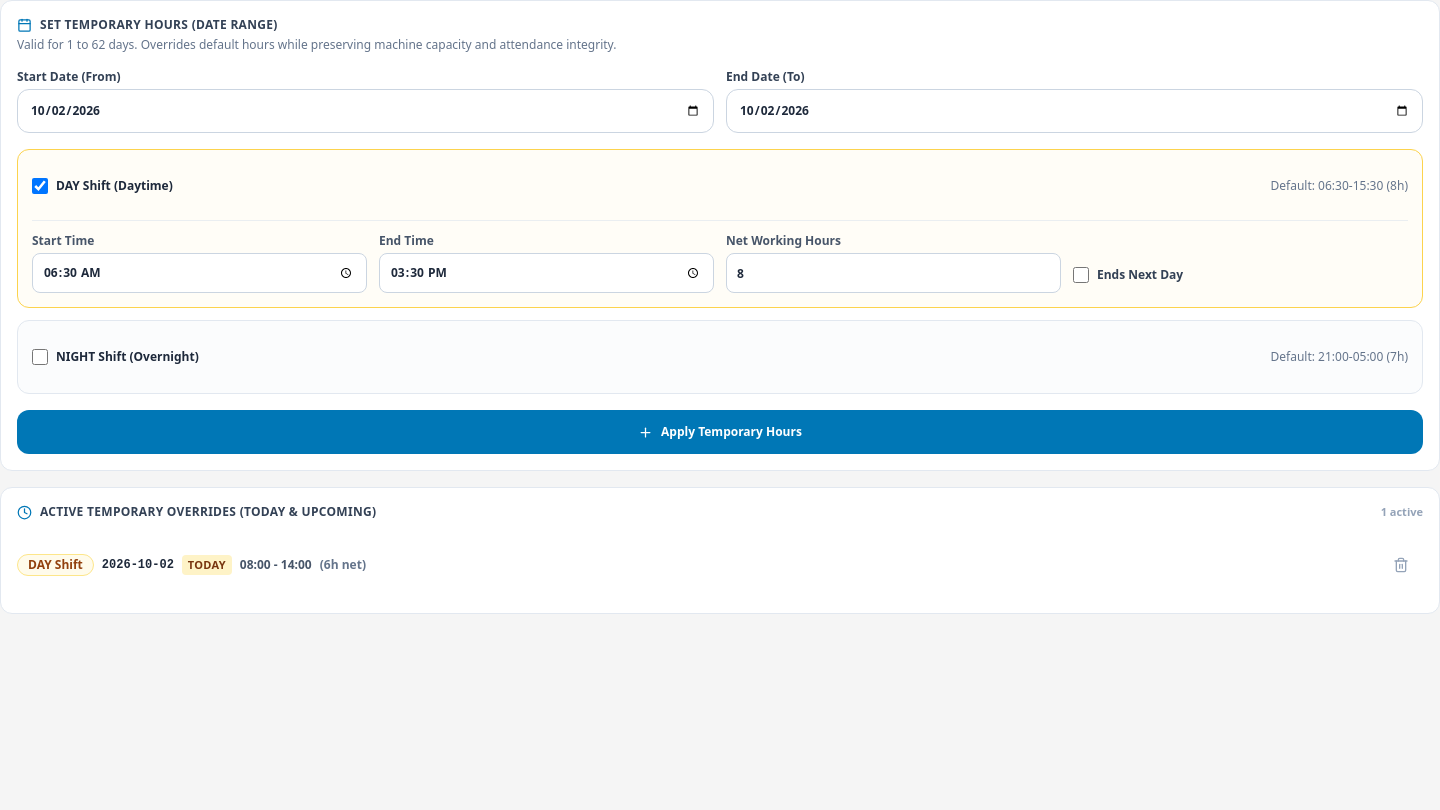
Test: PREVIEW_STALE — deteksi via err.code (DELETE) › refresh berhasil: alasan dipertahankan, konfirmasi ulang wajib, retry memakai token baru
Click the button named "Delete temporary hours for DAY on 2026-10-02" at (1401, 564), box left=1379, top=542, right=1423, bottom=586
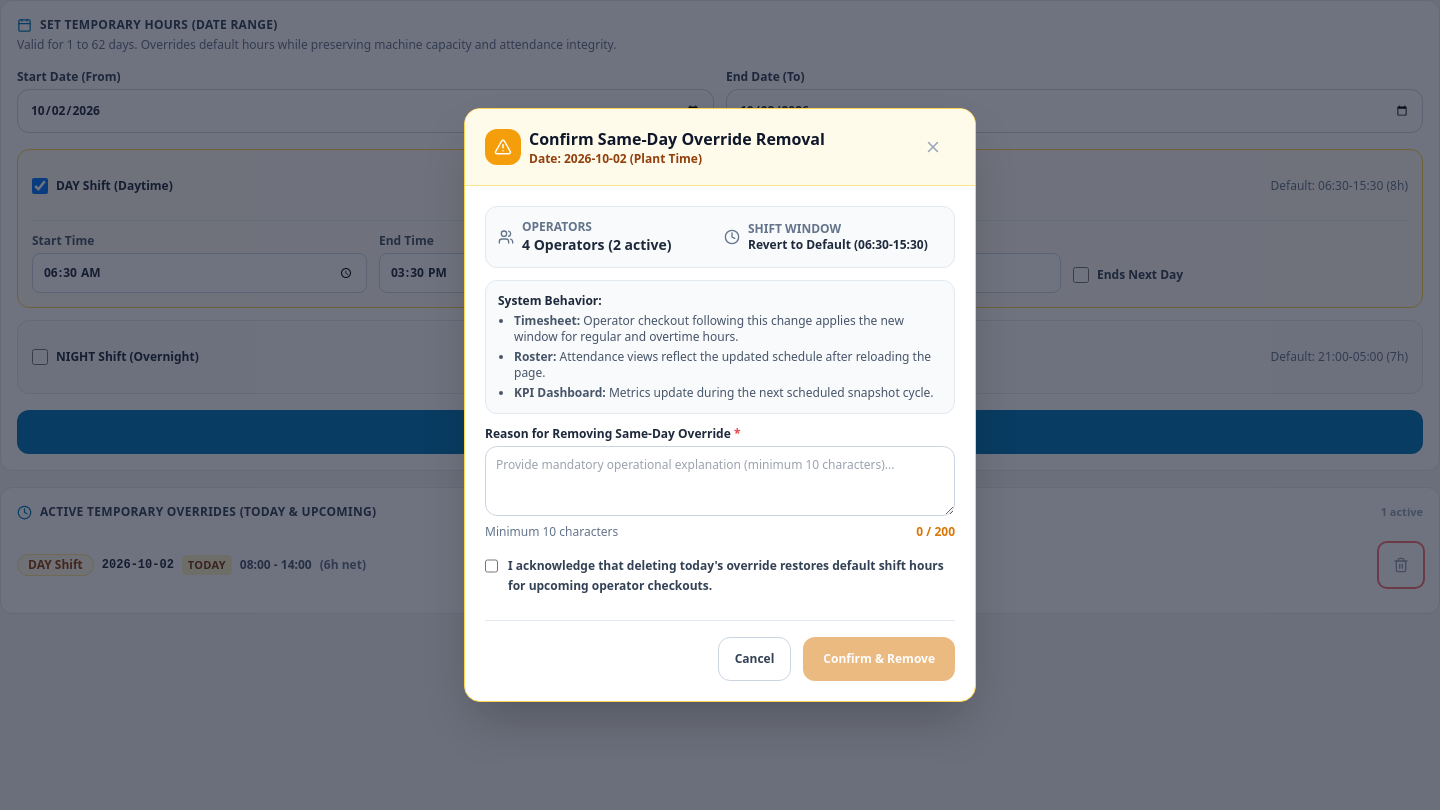
Expected: the heading "Confirm Same-Day Override Removal" is shown, left=529, top=127, right=825, bottom=151
Type "Emergency adjustment due to facility grid maintenance" into the text box labelled "Reason for Removing Same-Day Override *" at (720, 481), box left=485, top=446, right=955, bottom=516
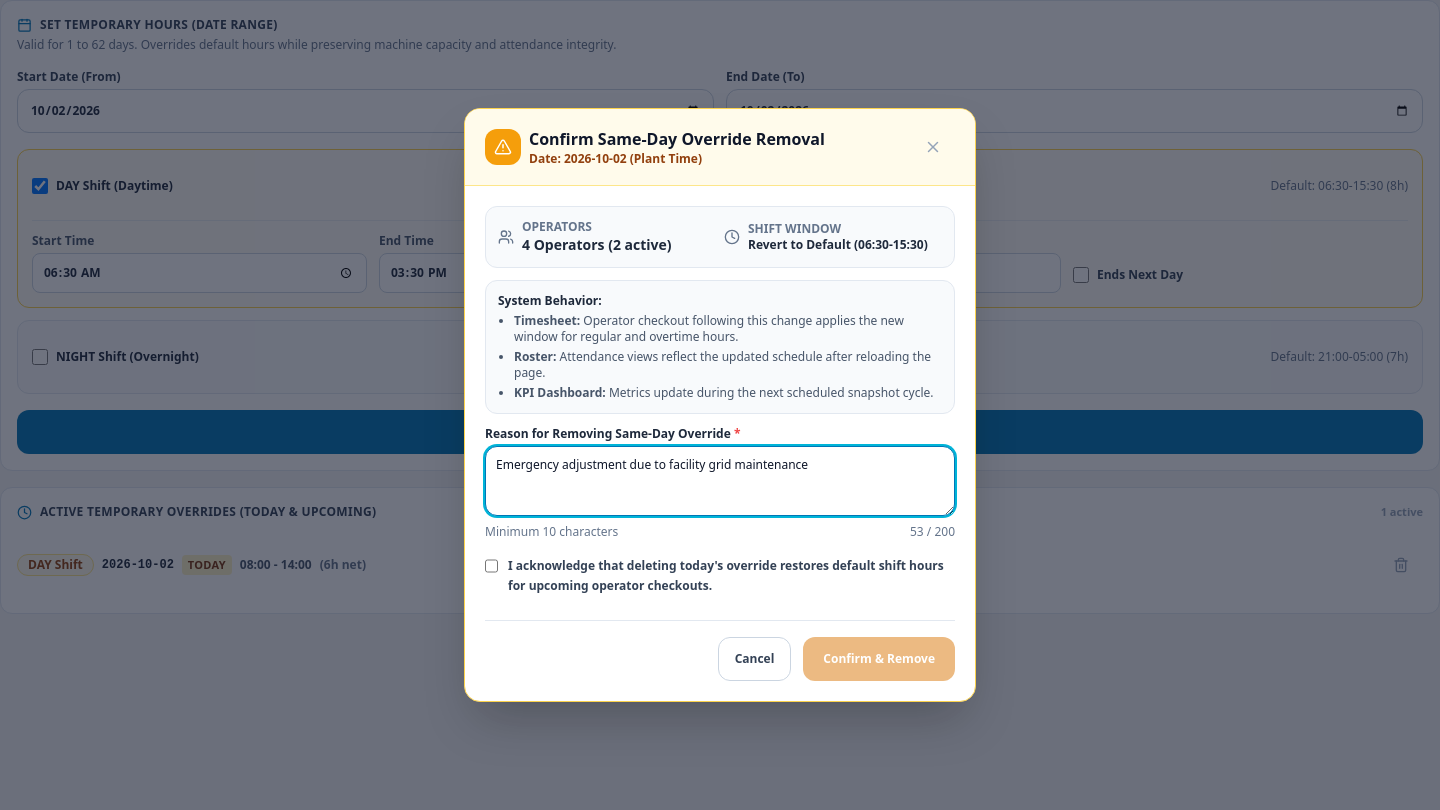
Click the checkbox labelled "I acknowledge that deleting today's override" at (492, 566), box left=485, top=558, right=498, bottom=574
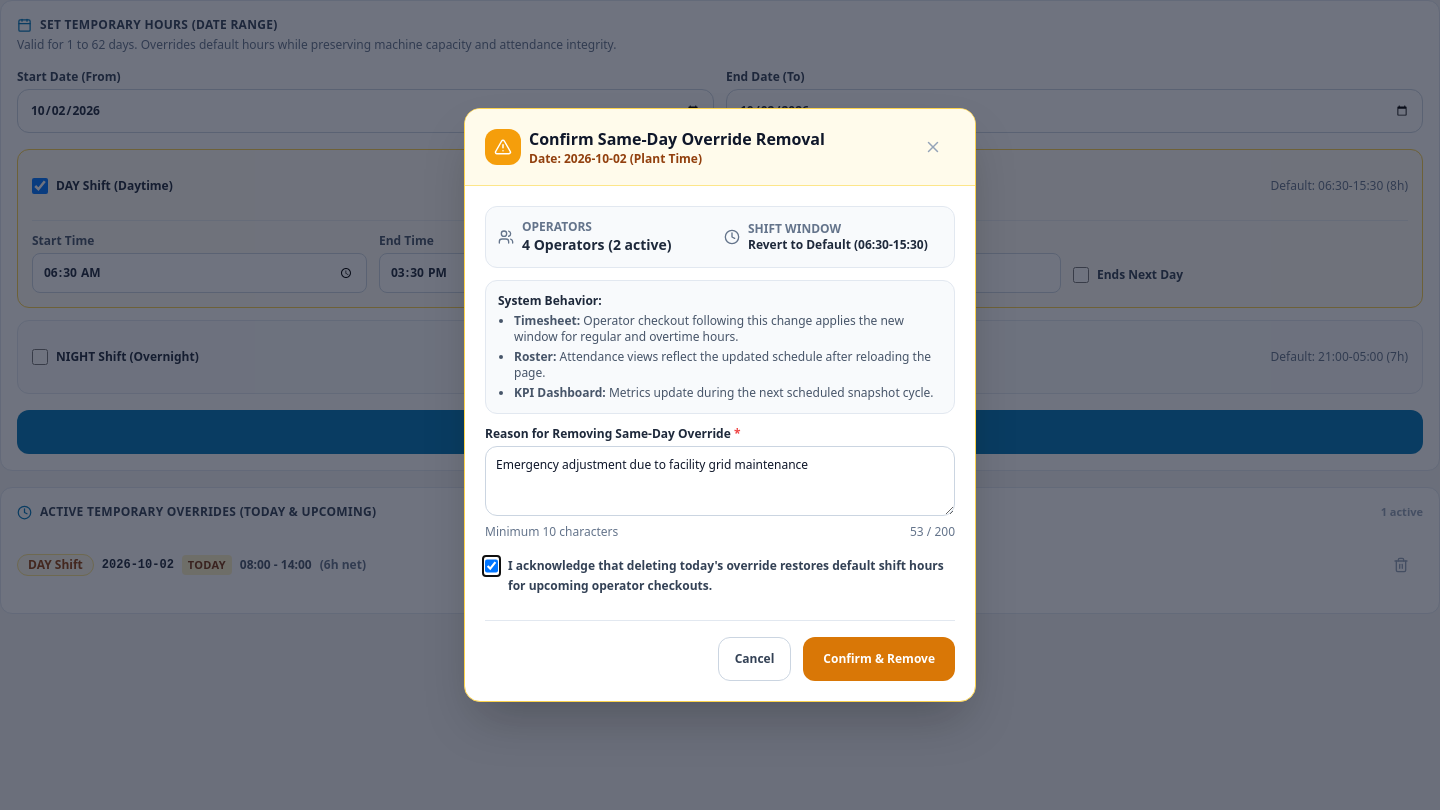
Click the button "Confirm & Remove" at (879, 659), box left=803, top=637, right=955, bottom=681
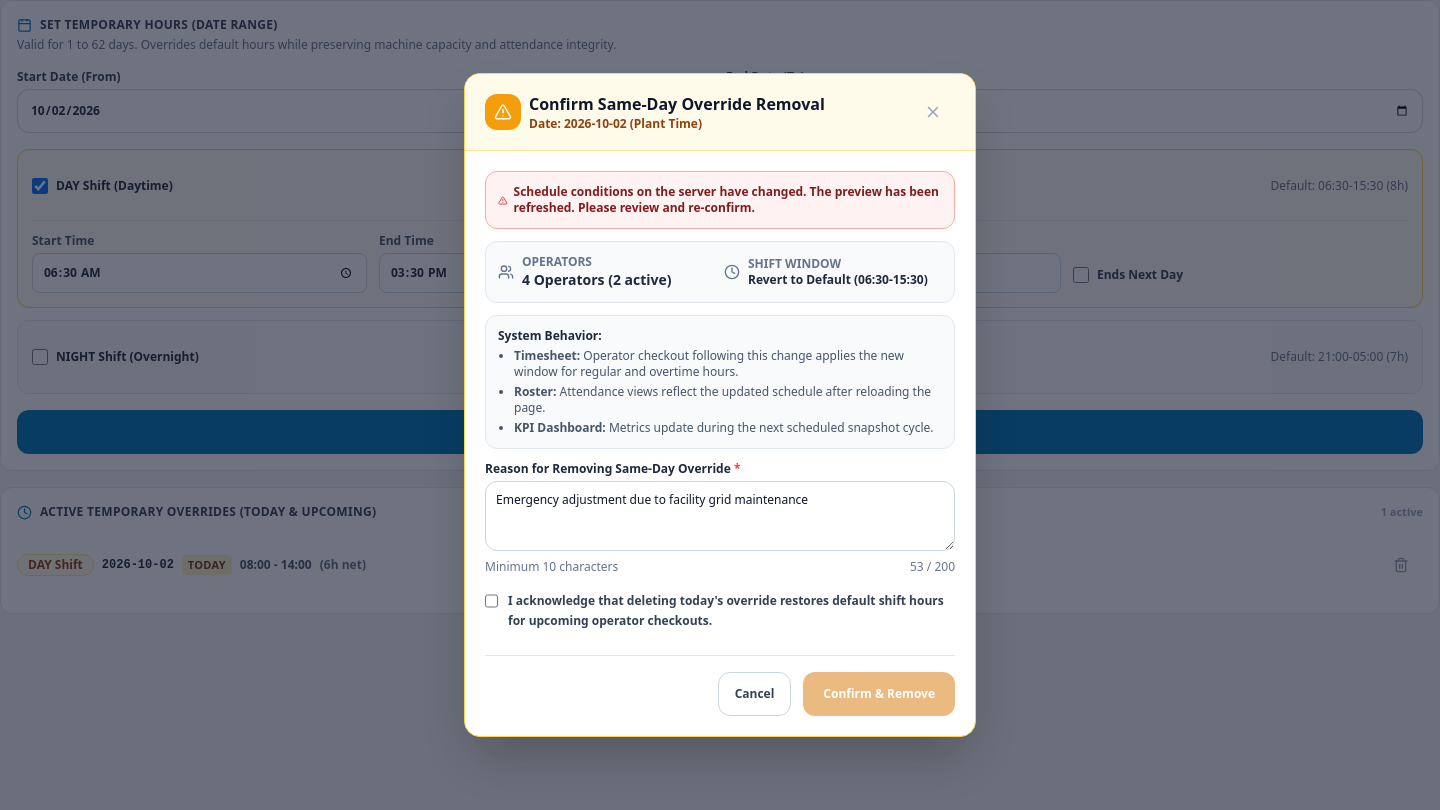
Expected: the checkbox labelled "I acknowledge that deleting today's override" is not checked
Expected: the text "preview has been refreshed" is shown, left=514, top=183, right=939, bottom=216
Expected: the button "Confirm & Remove" is disabled, left=803, top=672, right=955, bottom=716
Click the checkbox labelled "I acknowledge that deleting today's override" at (492, 601), box left=485, top=593, right=498, bottom=609
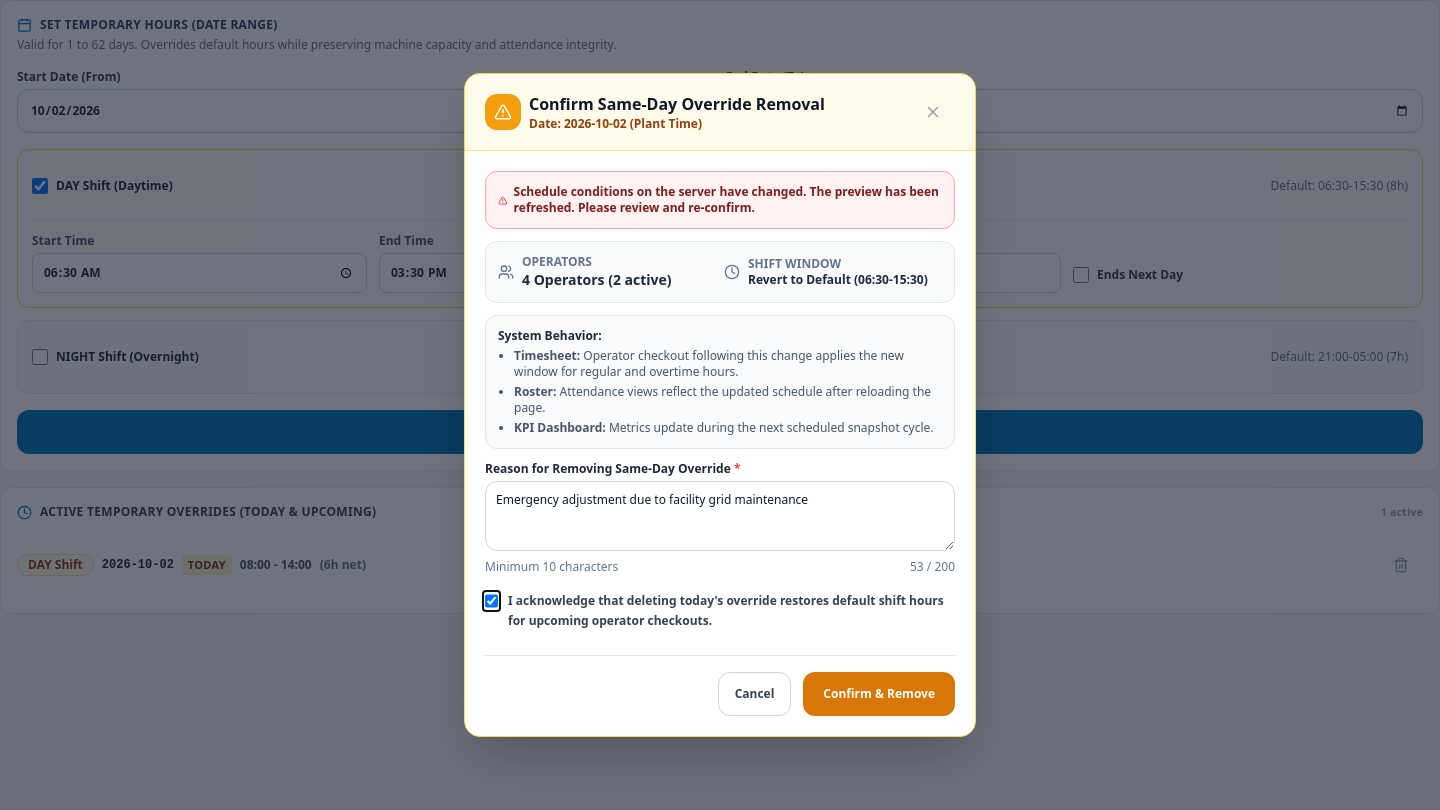
Click the button "Confirm & Remove" at (879, 694), box left=803, top=672, right=955, bottom=716
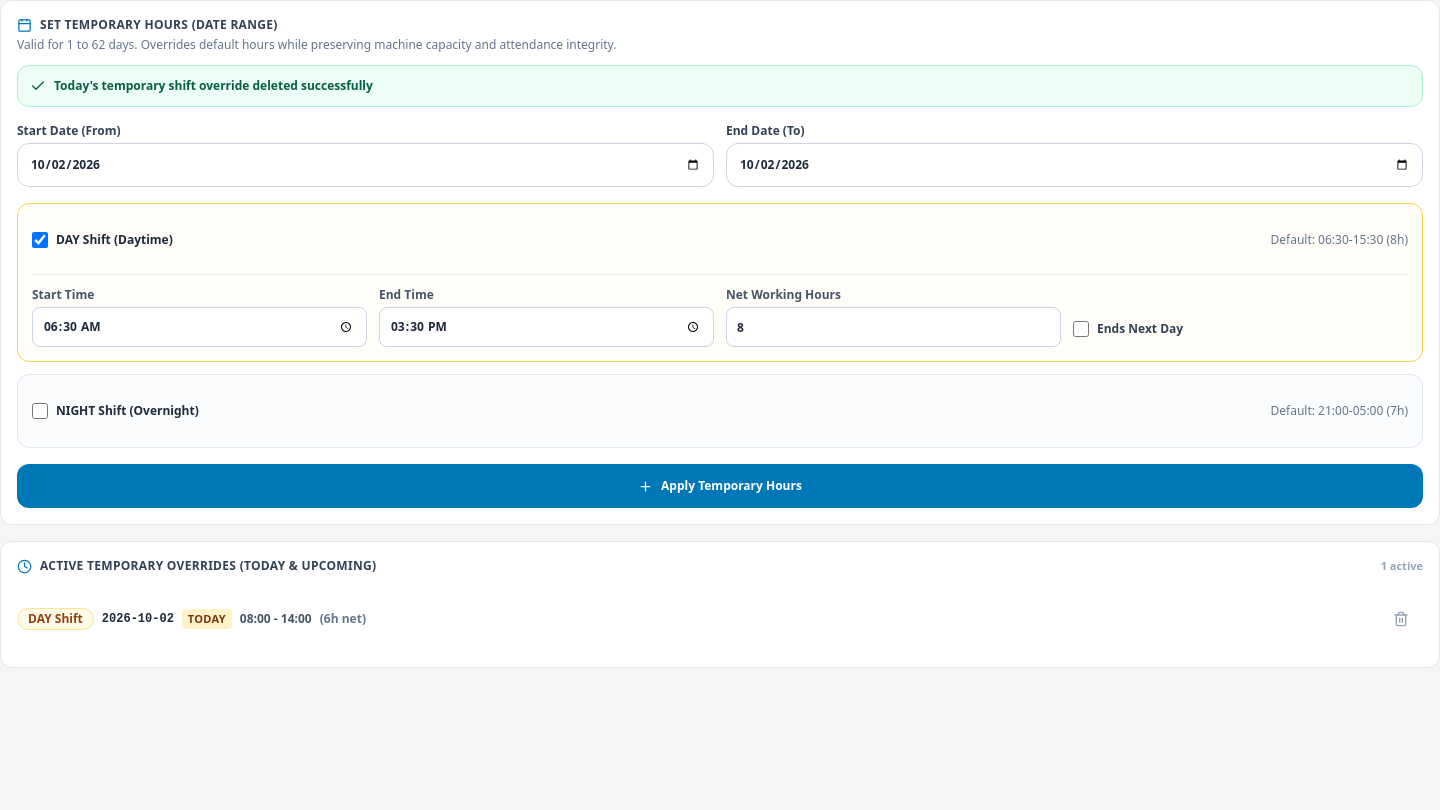
Expected: the heading "Confirm Same-Day Override Removal" is gone
